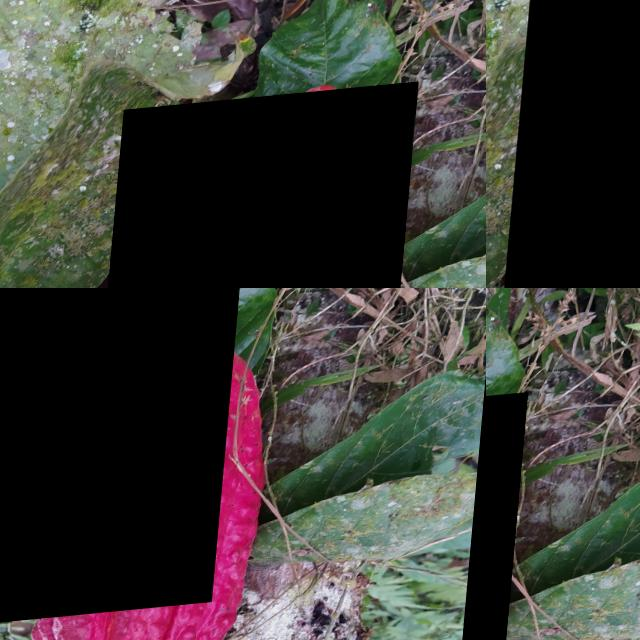Sana: (0, 288, 246, 629), (102, 90, 422, 288), (508, 0, 640, 288)
